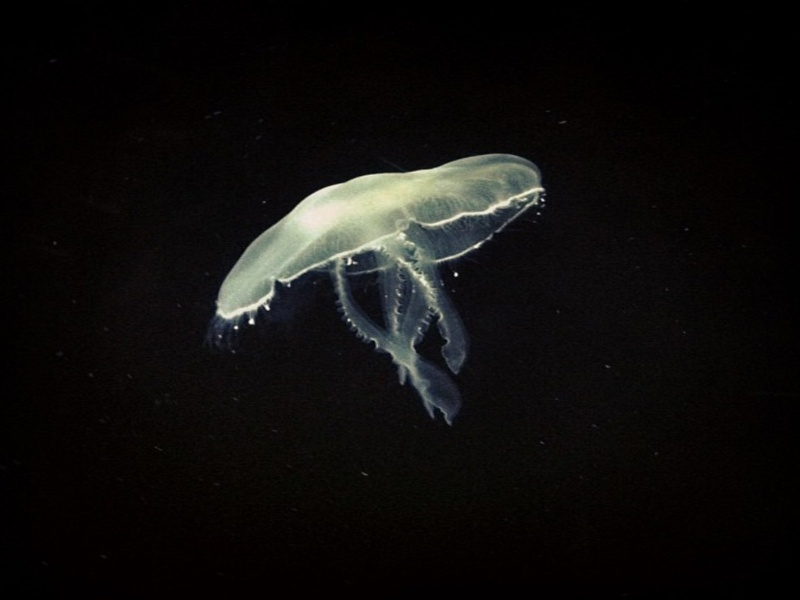Jellyfish: (204, 154, 547, 426)
